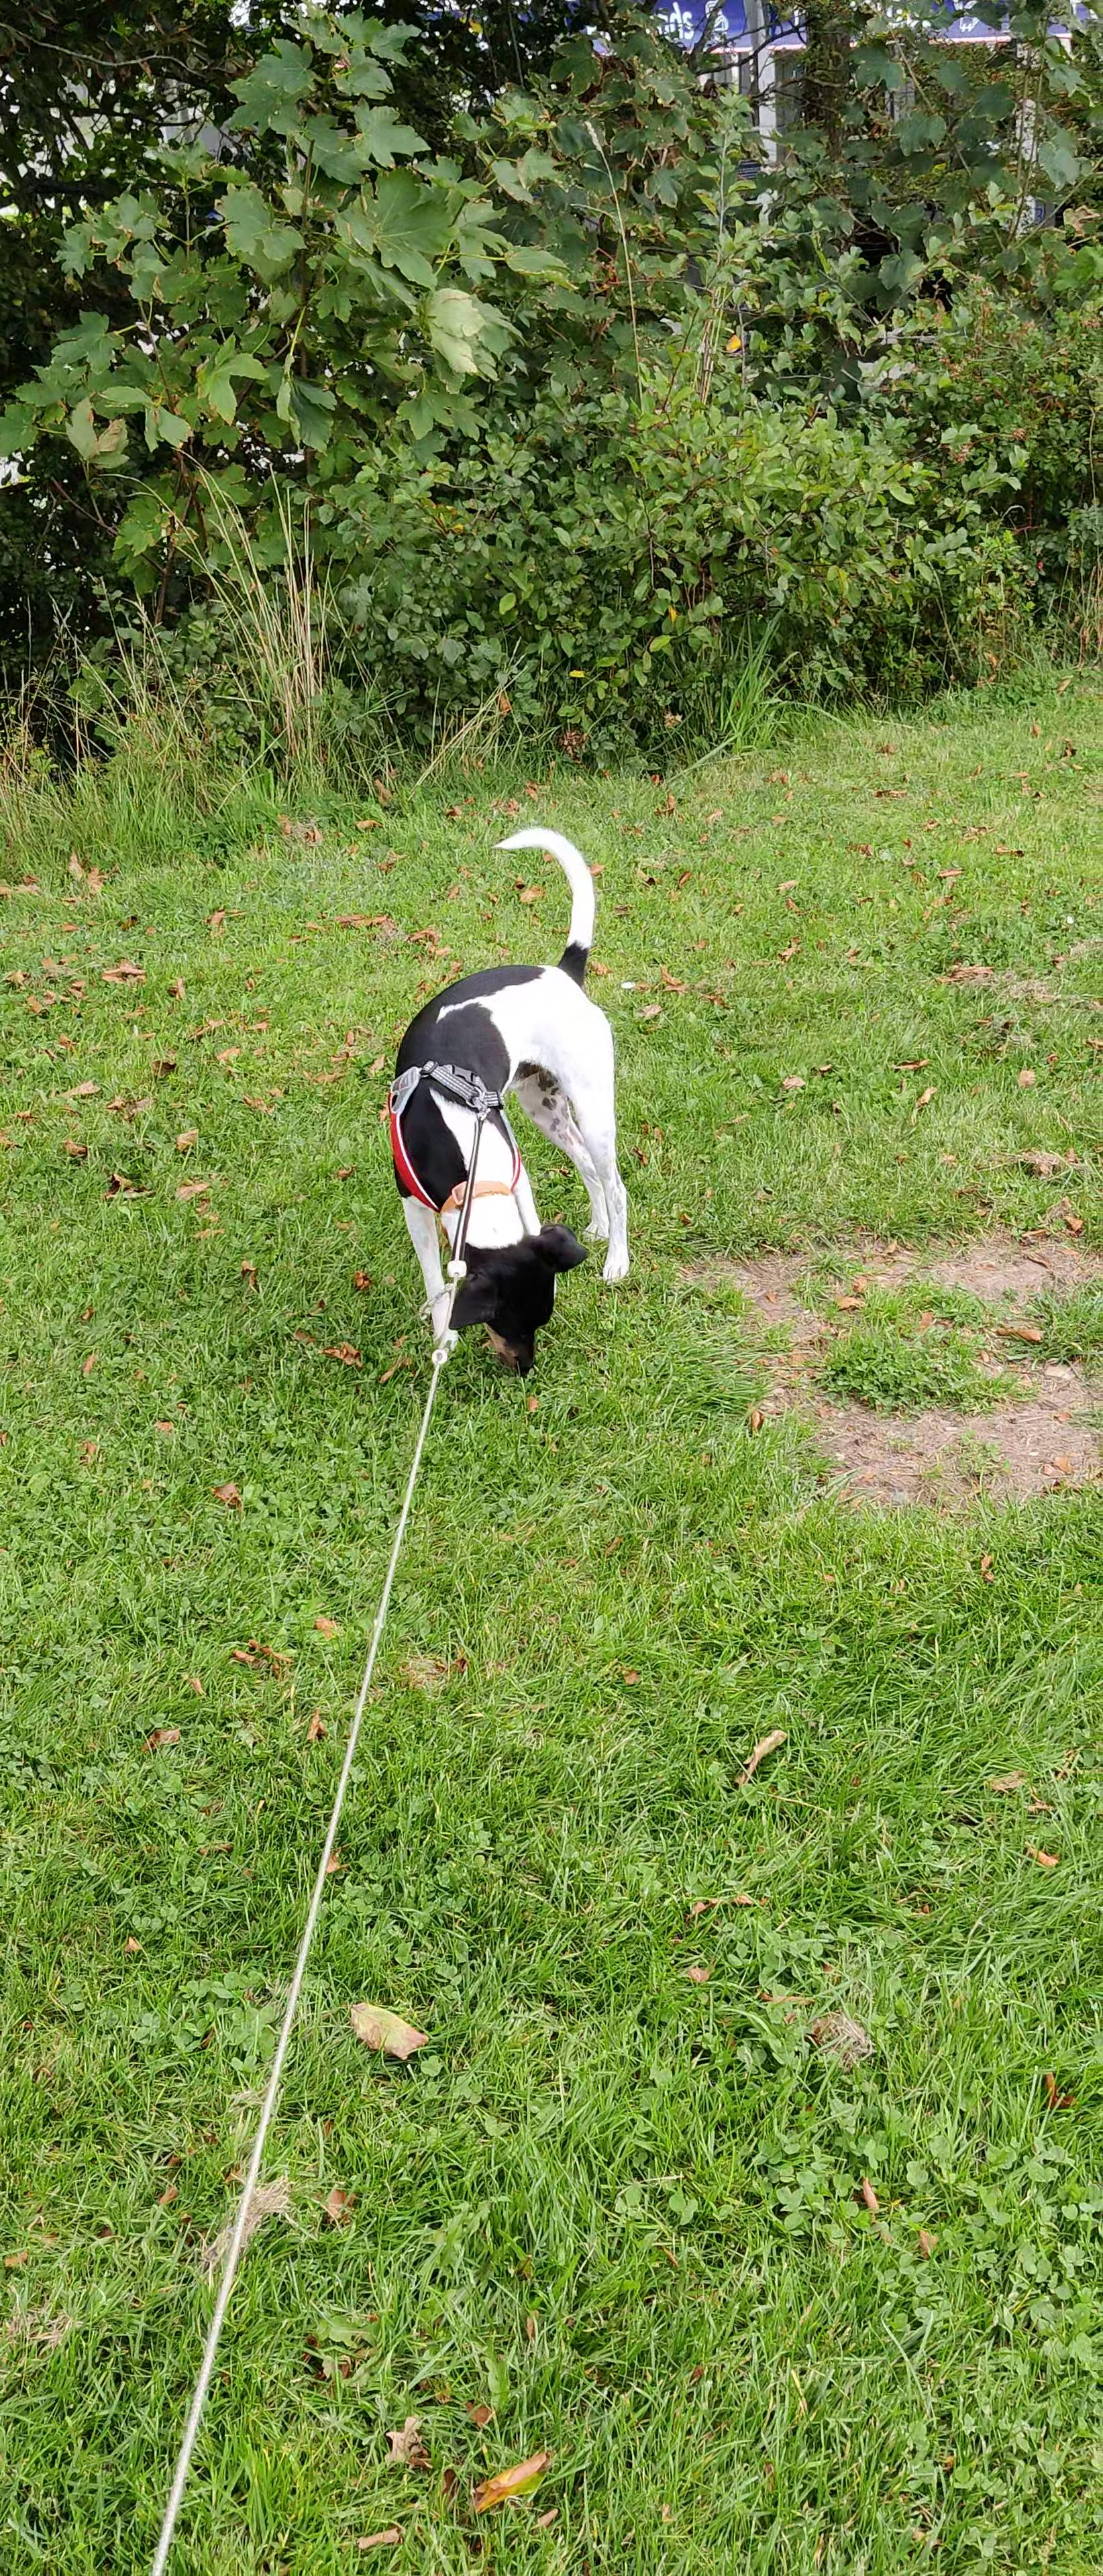Dog: (335, 813, 710, 1395)
